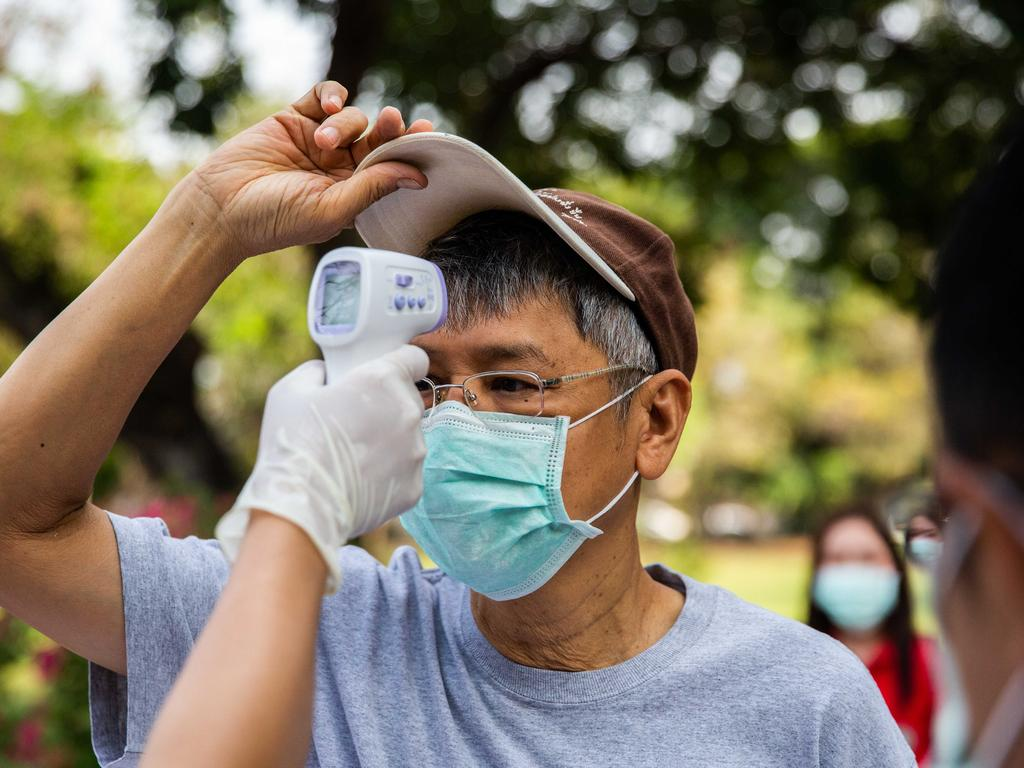surgical: (381, 400, 604, 605)
